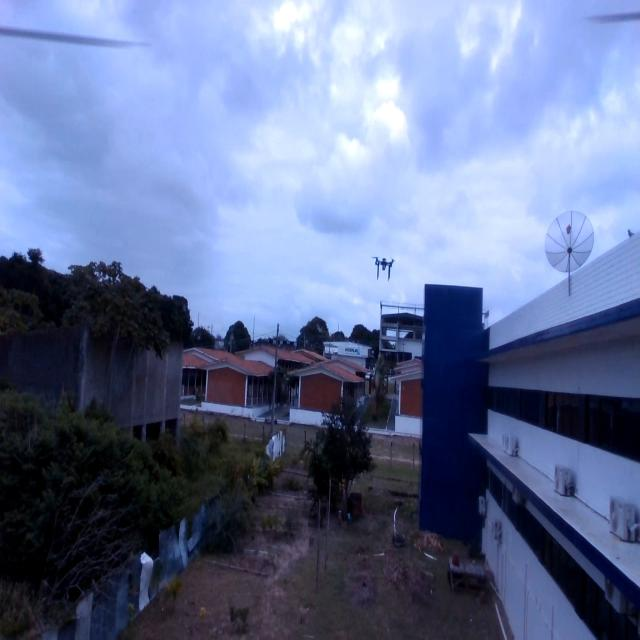-uav-: (368, 248, 404, 290)
